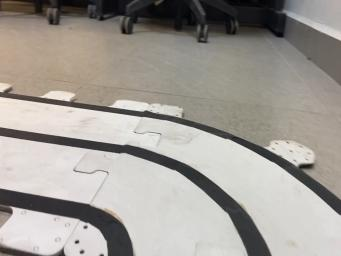street: (0, 91, 341, 256), (0, 91, 341, 256), (0, 91, 341, 256)
